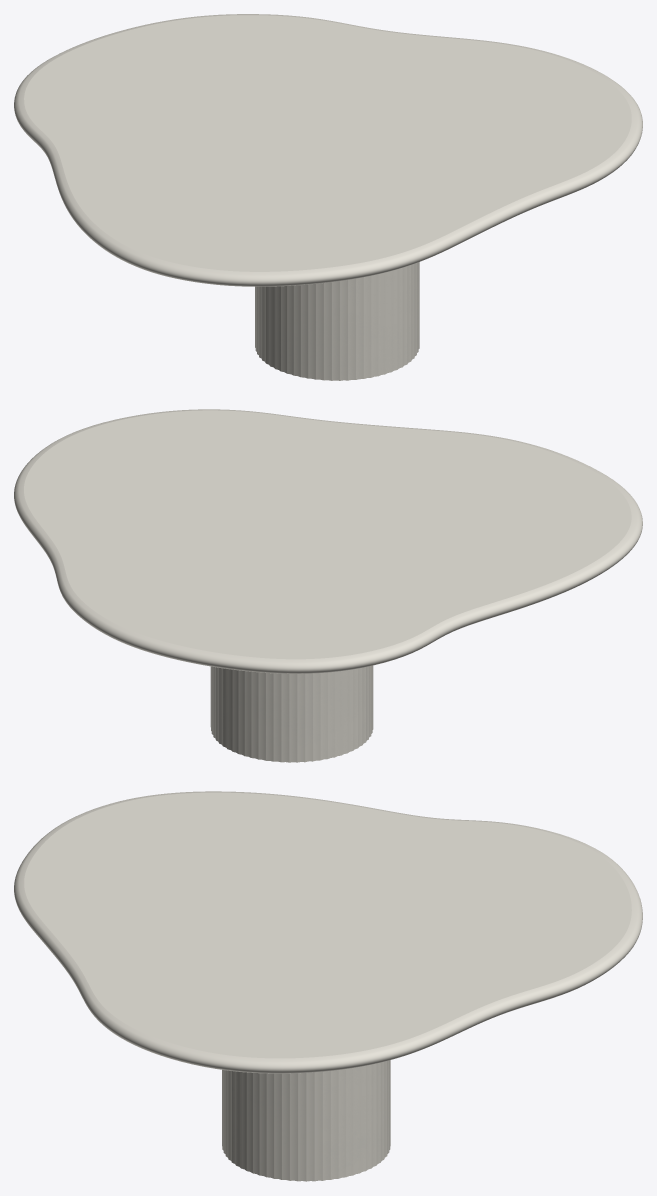
Rendered from pale_topone_round_ripple.glb.
The picture shows the model from 3 angles, top to bottom: view 1: azimuth 30°, elevation 25°; view 2: azimuth 150°, elevation 25°; view 3: azimuth 270°, elevation 25°; orthographic projection. The views are drawn at different scales.
Parts seen in each view (by area): view 1: round_topone, ripple; view 2: round_topone, ripple; view 3: round_topone, ripple.
Boxes of the visible parts, box(x1,y1,x2,y2) form: round_topone: box(14, 14, 642, 286); ripple: box(255, 262, 419, 380); round_topone: box(14, 409, 642, 673); ripple: box(210, 665, 373, 762); round_topone: box(14, 791, 642, 1073); ripple: box(222, 1060, 390, 1181).
Size of the model in its own units: 6.83 by 2.5 by 6.6.
1 material, 1 textured.
